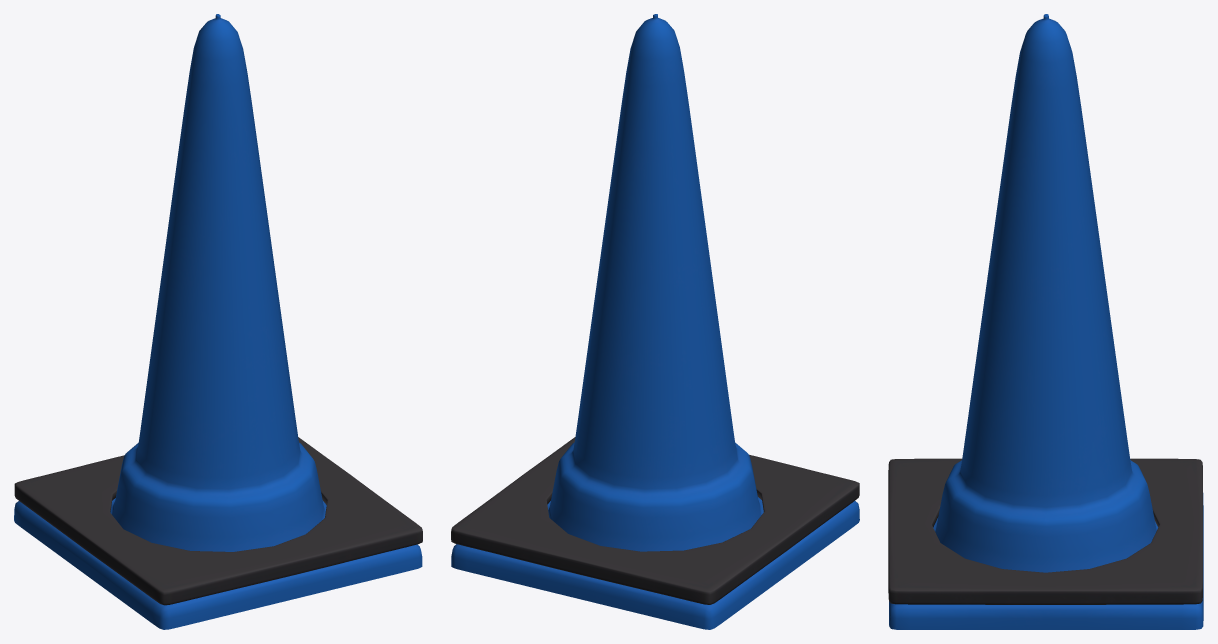
File: ColorCone_Basic_Blue.fbx
The picture shows the model from 3 angles, left to right: view 1: azimuth 30°, elevation 25°; view 2: azimuth 150°, elevation 25°; view 3: azimuth 270°, elevation 25°; orthographic projection. The views are drawn at different scales.
Parts seen in each view (by area): view 1: ColorCone_Basic_Blue; view 2: ColorCone_Basic_Blue; view 3: ColorCone_Basic_Blue.
Boxes of the visible parts, x1,y1,x2,y2 form: ColorCone_Basic_Blue: [14, 14, 422, 629]; ColorCone_Basic_Blue: [451, 14, 859, 629]; ColorCone_Basic_Blue: [888, 14, 1203, 629].
Size of the model in its own units: 38.04 by 38.06 by 73.14.
Materials: 1 (1 with a texture image).
